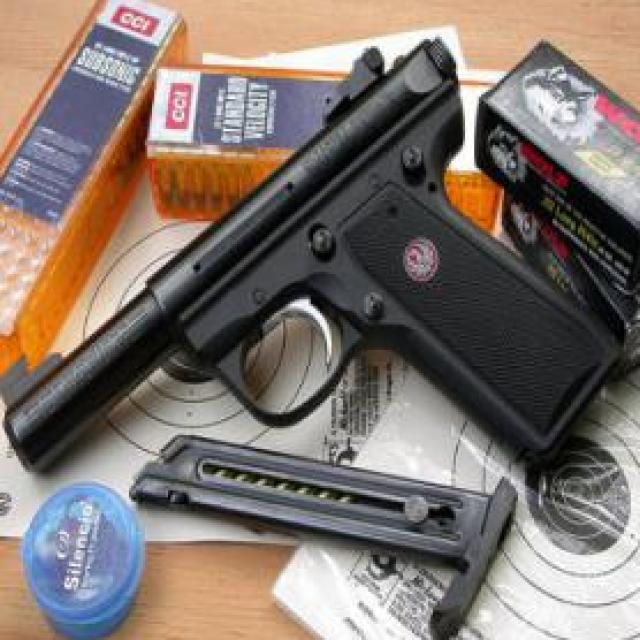pistol: (0, 37, 624, 474)
